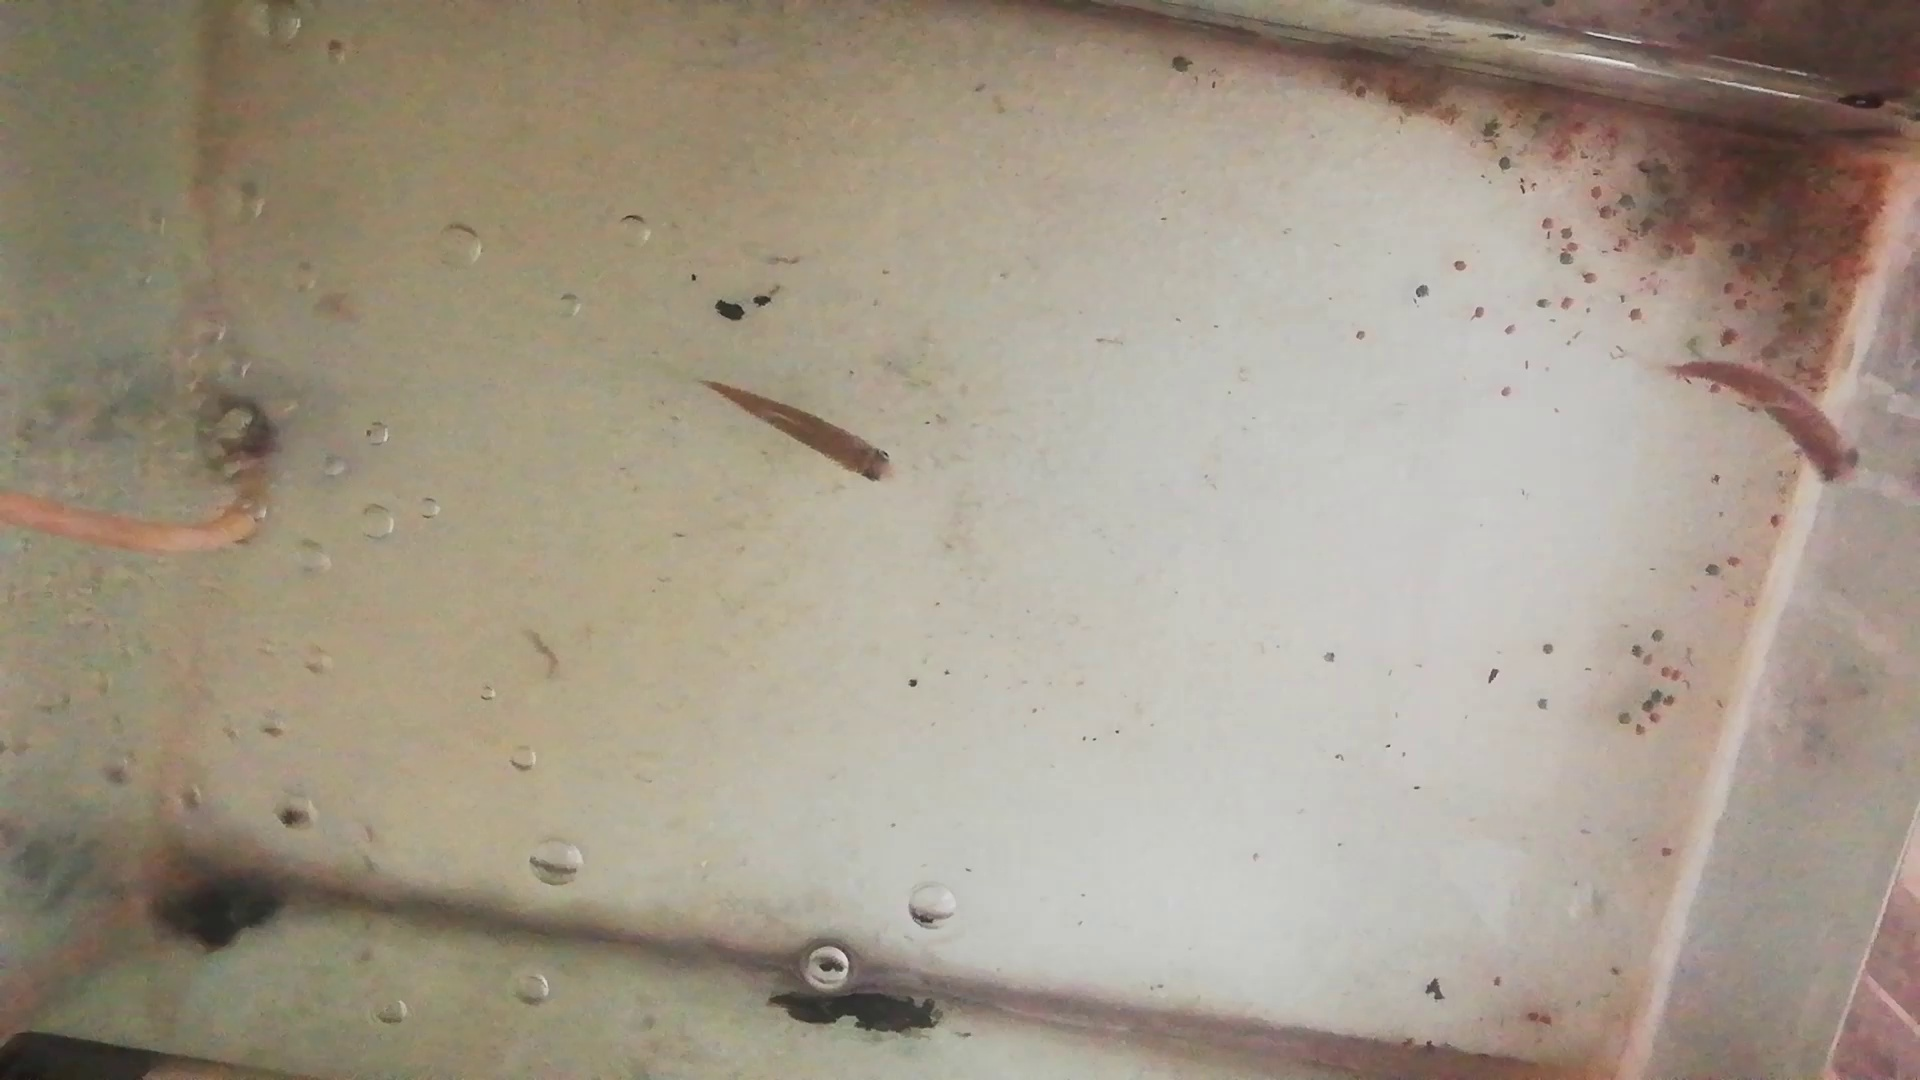fish: (1673, 357, 1862, 492), (705, 382, 895, 487)
